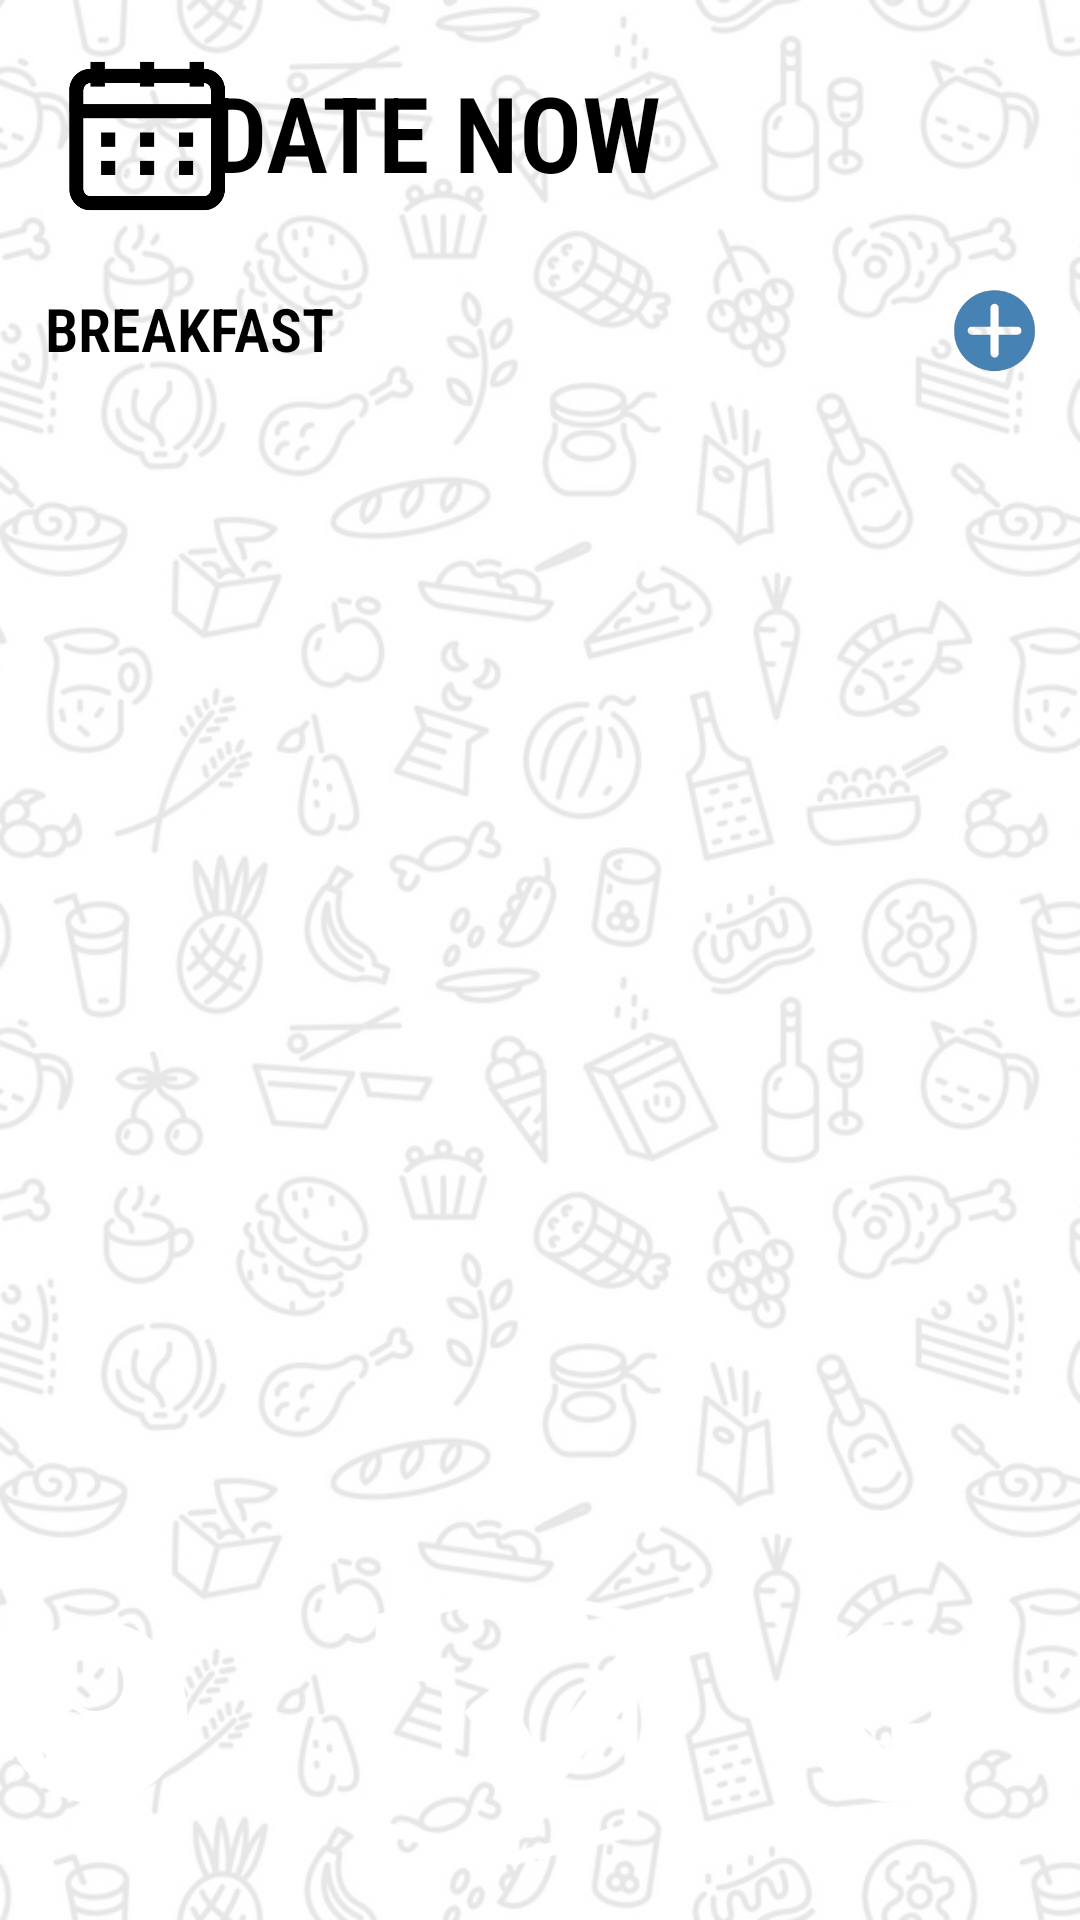

Icon click points for this 1080px×1920px phone screenshot, format (x,y):
addbutton: (993,332)
dateiconblack: (150,129)
